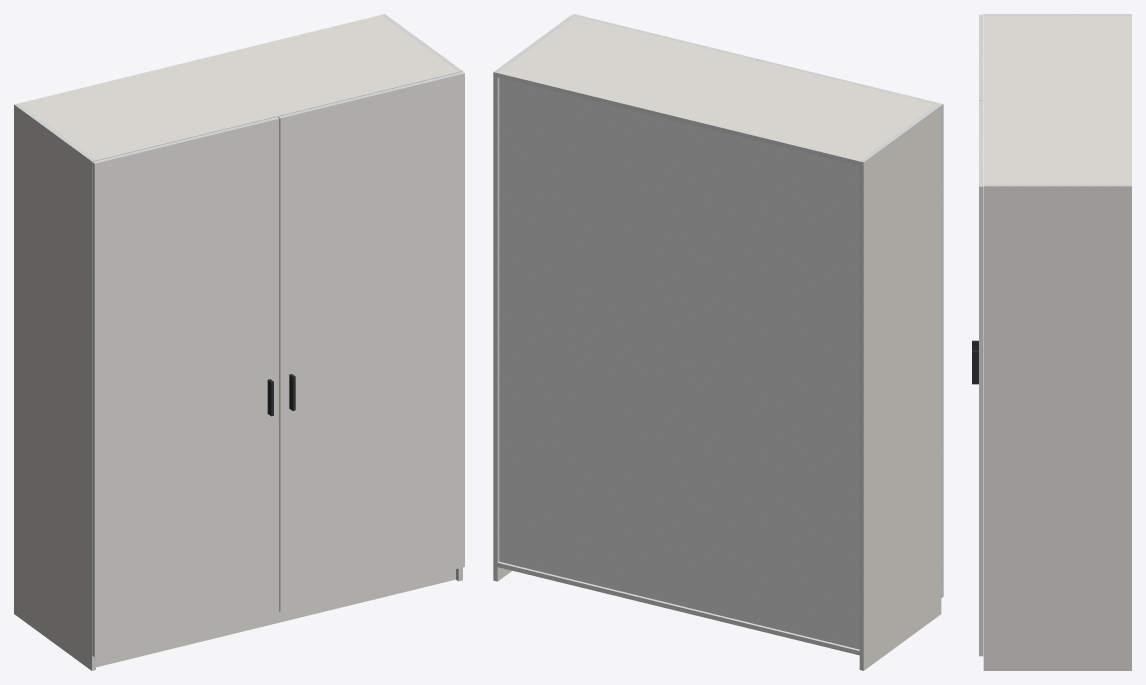
File: LIT-WRD-double.glb
3 renders of one model, left to right at view 1: azimuth 30°, elevation 25°; view 2: azimuth 150°, elevation 25°; view 3: azimuth 270°, elevation 25°, orthographic. The views are drawn at different scales.
Parts seen in each view (by area): view 1: door-l:pbr, door-r:pbr, side-l:pbr, top:pbr, plinth:pbr, door-l:sheet:eyJtIjoibWRmIiwic2lkZSI6ImVkZ2UtbG9uZyIsInNlZWQ, door-r:sheet:eyJtIjoibWRmIiwic2lkZSI6ImVkZ2UtbG9uZyIsInNlZWQ; view 2: back:sheet:eyJtIjoibWRmIiwic2lkZSI6ImZhY2UiLCJzZWVkIjoxLCJ0a, side-l:pbr, top:pbr, side-l:sheet:eyJtIjoibWRmIiwic2lkZSI6ImVkZ2UtbG9uZyIsInNlZWQ, side-r:sheet:eyJtIjoibWRmIiwic2lkZSI6ImVkZ2UtbG9uZyIsInNlZWQ, top:sheet:eyJtIjoibWRmIiwic2lkZSI6ImVkZ2UtbG9uZyIsInNlZWQiOj, bottom:sheet:eyJtIjoibWRmIiwic2lkZSI6ImVkZ2UtbG9uZyIsInNlZWQ, side-r:pbr, door-l:sheet:eyJtIjoibWRmIiwic2lkZSI6ImVkZ2UtbG9uZyIsInNlZWQ, bottom:pbr; view 3: side-r:pbr, top:pbr, door-r:sheet:eyJtIjoibWRmIiwic2lkZSI6ImVkZ2UtbG9uZyIsInNlZWQ, side-r:sheet:eyJtIjoibWRmIiwic2lkZSI6ImVkZ2UtZW5kIiwic2VlZCI, door-r:sheet:eyJtIjoibWRmIiwic2lkZSI6ImVkZ2UtZW5kIiwic2VlZCI, door-l:sheet:eyJtIjoibWRmIiwic2lkZSI6ImVkZ2UtZW5kIiwic2VlZCI, pull, side-l:sheet:eyJtIjoibWRmIiwic2lkZSI6ImVkZ2UtZW5kIiwic2VlZCI.
Part boxes in pixels (bbox=[...]): door-l:pbr: bbox=[94, 119, 279, 656]; door-r:pbr: bbox=[280, 73, 464, 611]; side-l:pbr: bbox=[14, 105, 91, 670]; top:pbr: bbox=[18, 15, 457, 160]; plinth:pbr: bbox=[96, 569, 455, 667]; door-l:sheet:eyJtIjoibWRmIiwic2lkZSI6ImVkZ2UtbG9uZyIsInNlZWQ: bbox=[92, 162, 94, 656]; door-r:sheet:eyJtIjoibWRmIiwic2lkZSI6ImVkZ2UtbG9uZyIsInNlZWQ: bbox=[278, 117, 280, 611]; back:sheet:eyJtIjoibWRmIiwic2lkZSI6ImZhY2UiLCJzZWVkIjoxLCJ0a: bbox=[499, 78, 859, 649]; side-l:pbr: bbox=[863, 106, 941, 670]; top:pbr: bbox=[498, 16, 936, 161]; side-l:sheet:eyJtIjoibWRmIiwic2lkZSI6ImVkZ2UtbG9uZyIsInNlZWQ: bbox=[859, 161, 863, 670]; side-r:sheet:eyJtIjoibWRmIiwic2lkZSI6ImVkZ2UtbG9uZyIsInNlZWQ: bbox=[493, 72, 497, 581]; top:sheet:eyJtIjoibWRmIiwic2lkZSI6ImVkZ2UtbG9uZyIsInNlZWQiOj: bbox=[497, 73, 859, 165]; bottom:sheet:eyJtIjoibWRmIiwic2lkZSI6ImVkZ2UtbG9uZyIsInNlZWQ: bbox=[497, 563, 859, 655]; side-r:pbr: bbox=[497, 77, 511, 581]; door-l:sheet:eyJtIjoibWRmIiwic2lkZSI6ImVkZ2UtbG9uZyIsInNlZWQ: bbox=[941, 104, 943, 597]; bottom:pbr: bbox=[498, 561, 859, 650]; side-r:pbr: bbox=[983, 186, 1131, 670]; top:pbr: bbox=[983, 16, 1131, 184]; door-r:sheet:eyJtIjoibWRmIiwic2lkZSI6ImVkZ2UtbG9uZyIsInNlZWQ: bbox=[979, 186, 983, 656]; side-r:sheet:eyJtIjoibWRmIiwic2lkZSI6ImVkZ2UtZW5kIiwic2VlZCI: bbox=[983, 184, 1131, 186]; door-r:sheet:eyJtIjoibWRmIiwic2lkZSI6ImVkZ2UtZW5kIiwic2VlZCI: bbox=[979, 100, 983, 186]; door-l:sheet:eyJtIjoibWRmIiwic2lkZSI6ImVkZ2UtZW5kIiwic2VlZCI: bbox=[979, 14, 983, 100]; pull: bbox=[972, 340, 978, 384]; side-l:sheet:eyJtIjoibWRmIiwic2lkZSI6ImVkZ2UtZW5kIiwic2VlZCI: bbox=[983, 14, 1131, 15].
Bounding box in the file's own units: 1.6 × 2.1 × 0.6271.
Materials: 34 (23 with a texture image).
